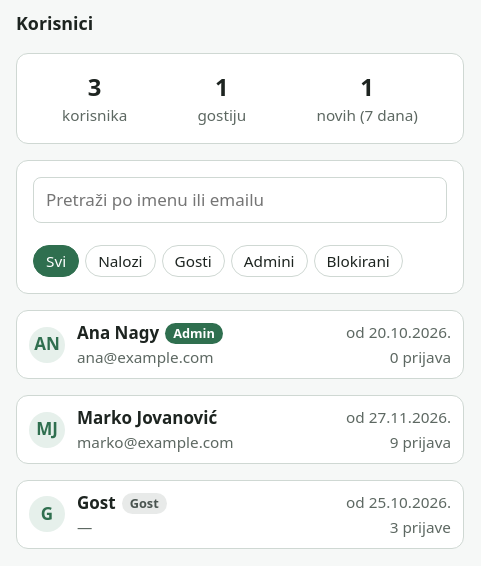
Users › filters and searches
Expected: the text "Marko Jovanović" is shown, left=77, top=406, right=217, bottom=431
Click the button "Gosti". click: (193,261)
box: left=162, top=245, right=225, bottom=277
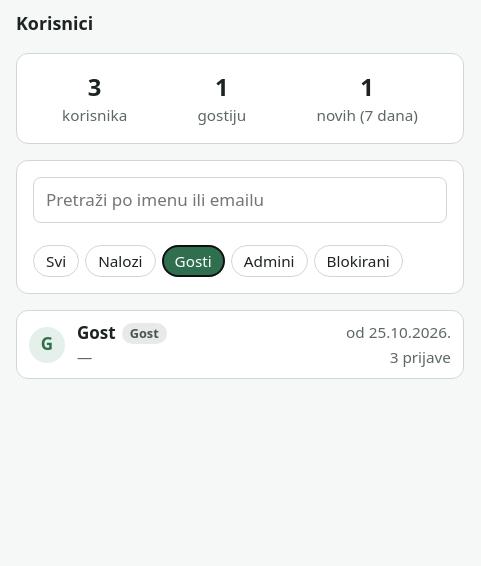
Expected: the 1st text "Gost" is shown, left=77, top=321, right=116, bottom=346
Now the button "Marko Jovanović" is gone
Click the button "Svi". click: (56,261)
box: left=33, top=245, right=79, bottom=277
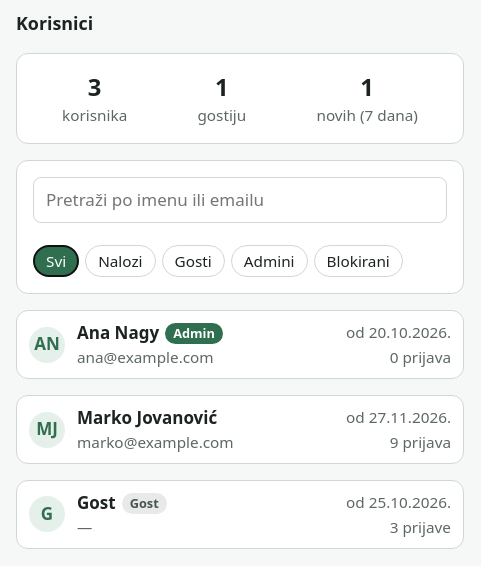
Type "marko@" into the search field labelled "Pretraži po imenu ili emailu". click: (240,200)
box: left=33, top=176, right=447, bottom=223
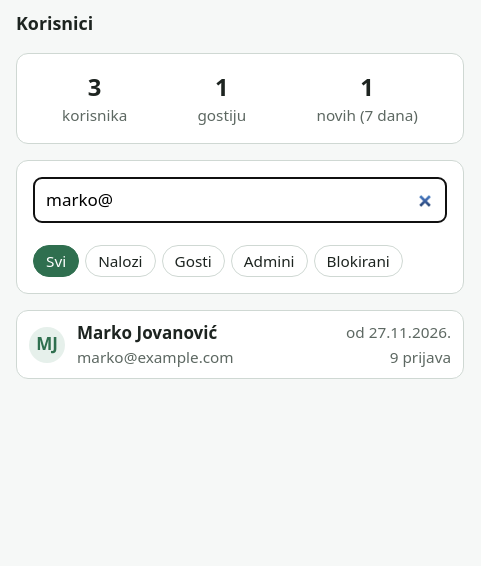
Now the text "Marko Jovanović" is shown, box left=77, top=321, right=217, bottom=346
Now the button "Ana Nagy" is gone
